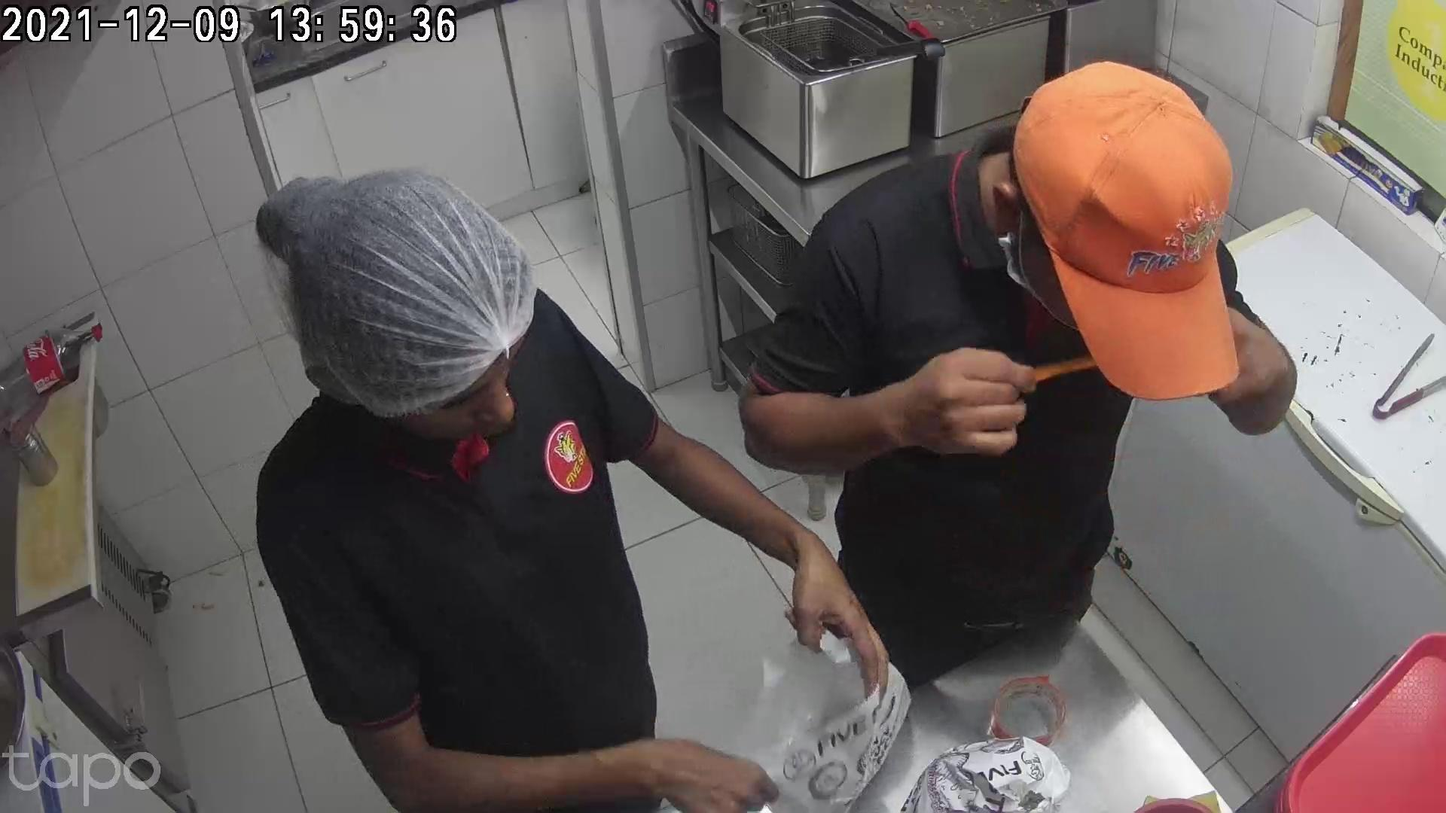no_gloves: (874, 356, 1030, 451)
